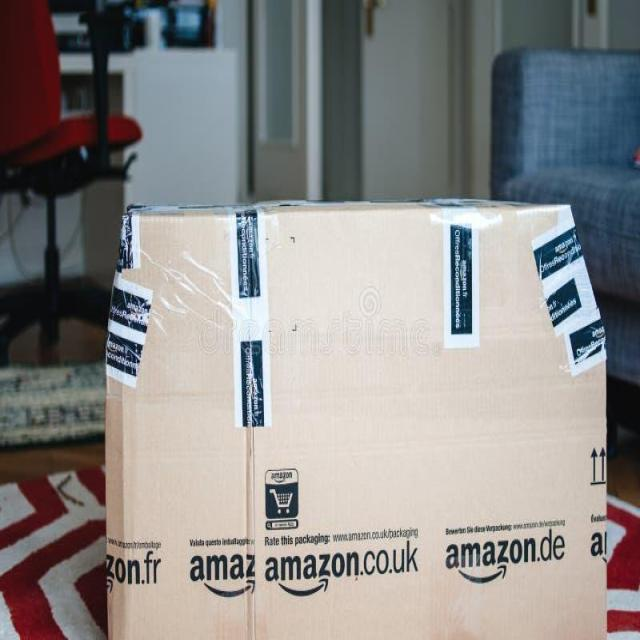Pathole: (95, 189, 616, 640)
